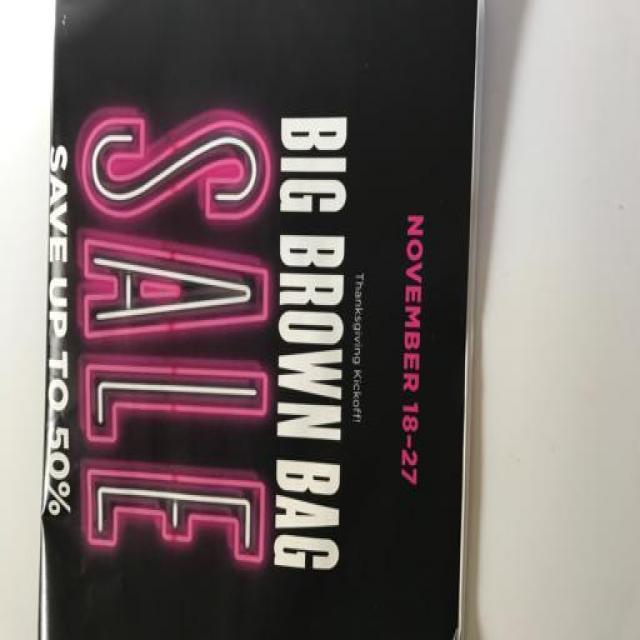paper: (28, 1, 558, 640)
